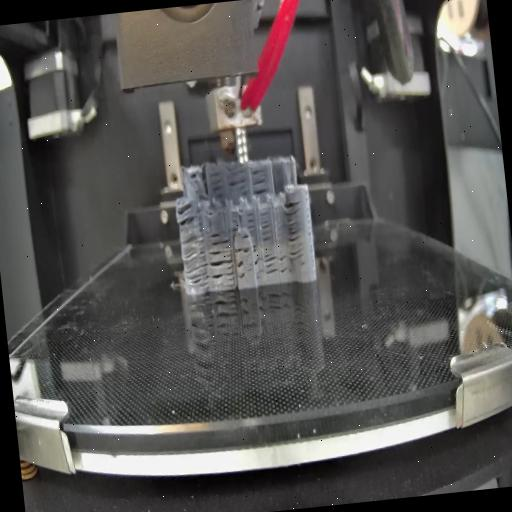cracks: (284, 198, 308, 266), (181, 234, 210, 287), (210, 248, 236, 286), (262, 247, 291, 279), (227, 169, 249, 200), (177, 204, 203, 230), (250, 165, 271, 196), (207, 170, 227, 200), (259, 209, 275, 243), (210, 228, 230, 247), (236, 243, 260, 258), (229, 210, 241, 235), (246, 210, 256, 234), (254, 258, 263, 280), (188, 170, 200, 184), (238, 260, 246, 280), (241, 234, 250, 243)
